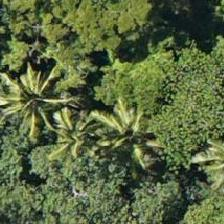coconut_tree: (28, 87, 118, 177), (83, 89, 173, 179), (0, 47, 74, 137)
